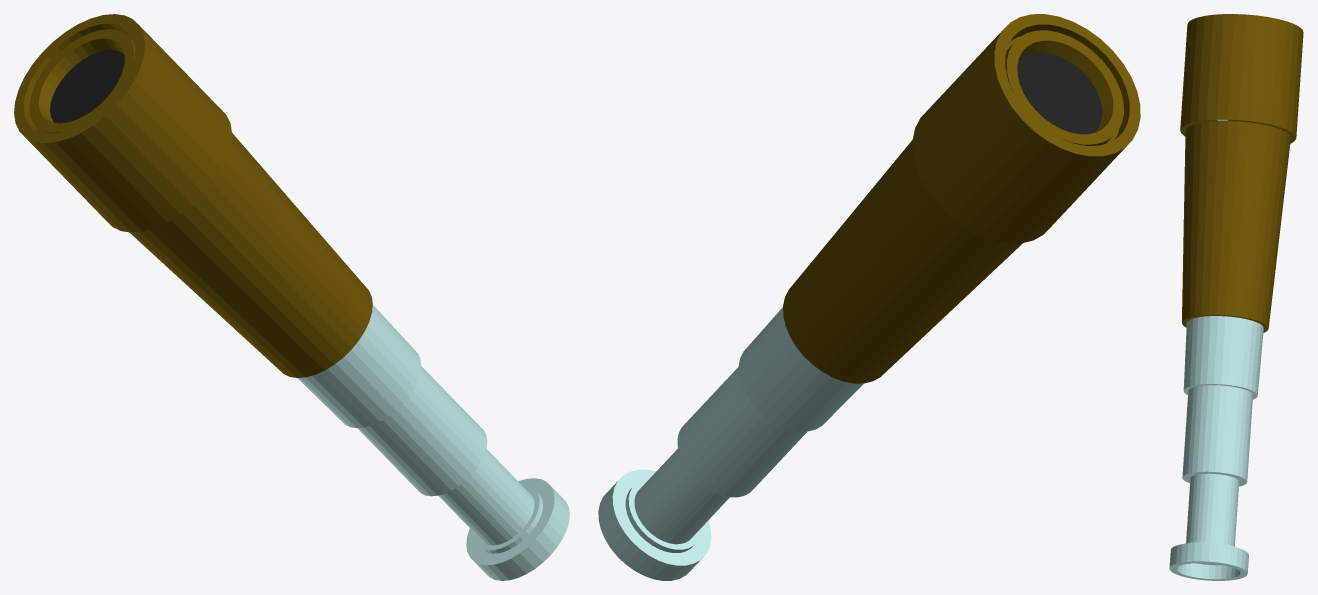
File: Spyglass.fbx
The picture shows the model from 3 angles, left to right: view 1: azimuth 30°, elevation 25°; view 2: azimuth 150°, elevation 25°; view 3: azimuth 270°, elevation 25°; orthographic projection. The views are drawn at different scales.
Parts seen in each view (by area): view 1: Spyglass_Base.001; view 2: Spyglass_Base.001; view 3: Spyglass_Base.001.
Part boxes in pixels (left/top/right/bottom): Spyglass_Base.001: left=14, top=14, right=569, bottom=580; Spyglass_Base.001: left=598, top=14, right=1140, bottom=580; Spyglass_Base.001: left=1169, top=14, right=1303, bottom=580.
Bounding box in the file's own units: 134 × 155 × 41.92.
